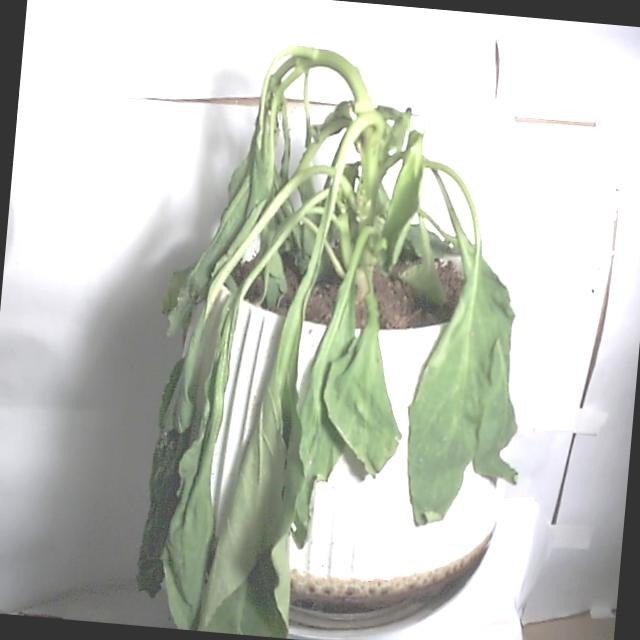Leaf: (200, 335, 313, 638), (400, 293, 524, 522), (158, 308, 240, 632), (300, 298, 408, 476), (136, 330, 202, 600)
